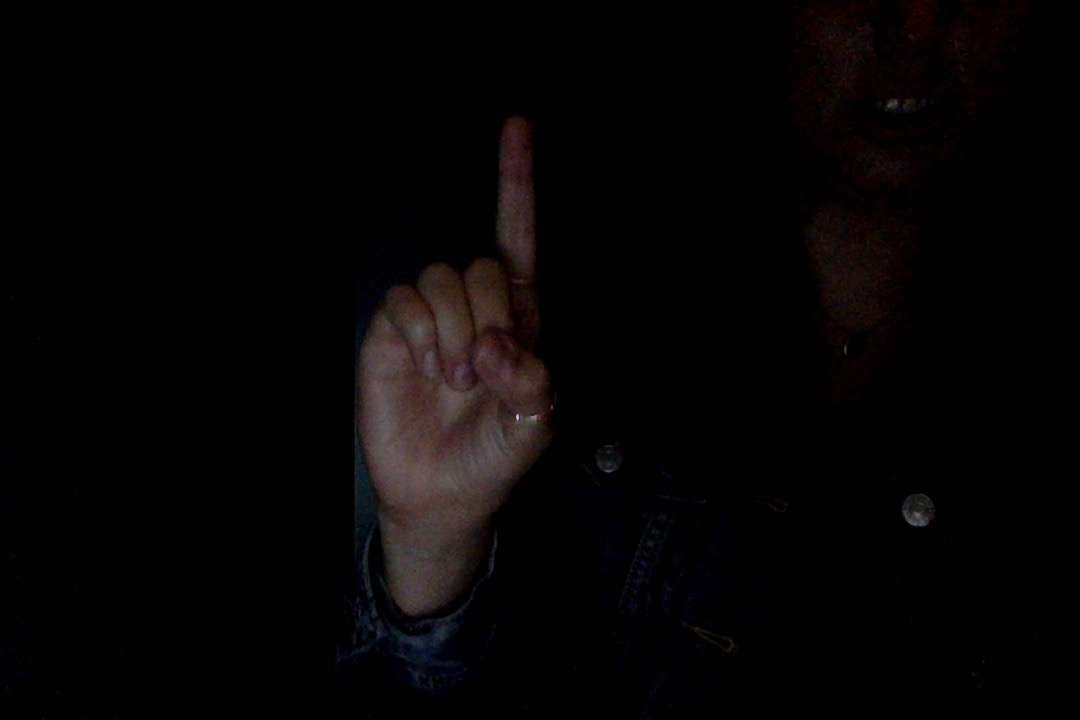d: (342, 85, 581, 554)
